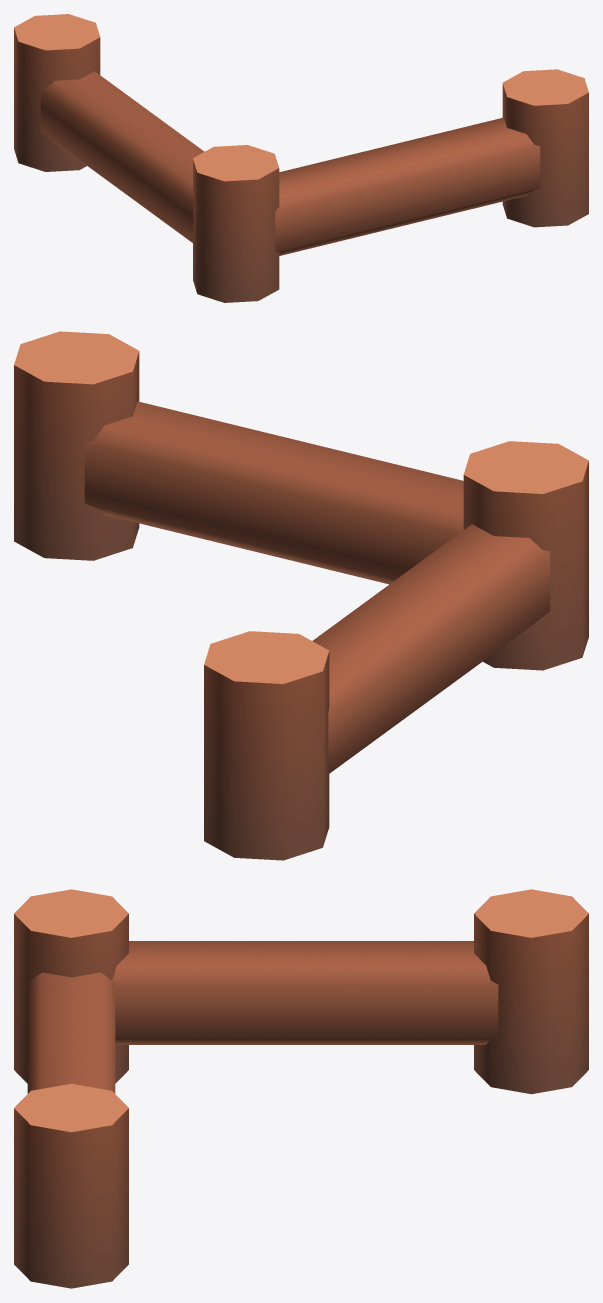
Rendered from fence-low-corner.glb.
The picture shows the model from 3 angles, top to bottom: view 1: azimuth 30°, elevation 25°; view 2: azimuth 150°, elevation 25°; view 3: azimuth 270°, elevation 25°; orthographic projection. The views are drawn at different scales.
Visible parts, largest first — view 1: fence-low-corner; view 2: fence-low-corner; view 3: fence-low-corner.
Boxes of the visible parts, bbox=[...] form: fence-low-corner: bbox=[14, 14, 588, 302]; fence-low-corner: bbox=[14, 331, 588, 860]; fence-low-corner: bbox=[14, 889, 588, 1288].
Bounding box in the file's own units: 1 × 0.3 × 1.
Materials: 1 (1 with a texture image).
